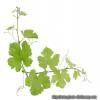grape leaf: (4, 40, 34, 74), (21, 70, 50, 98), (36, 47, 62, 71), (50, 67, 72, 91), (18, 28, 41, 43), (72, 70, 82, 83)
